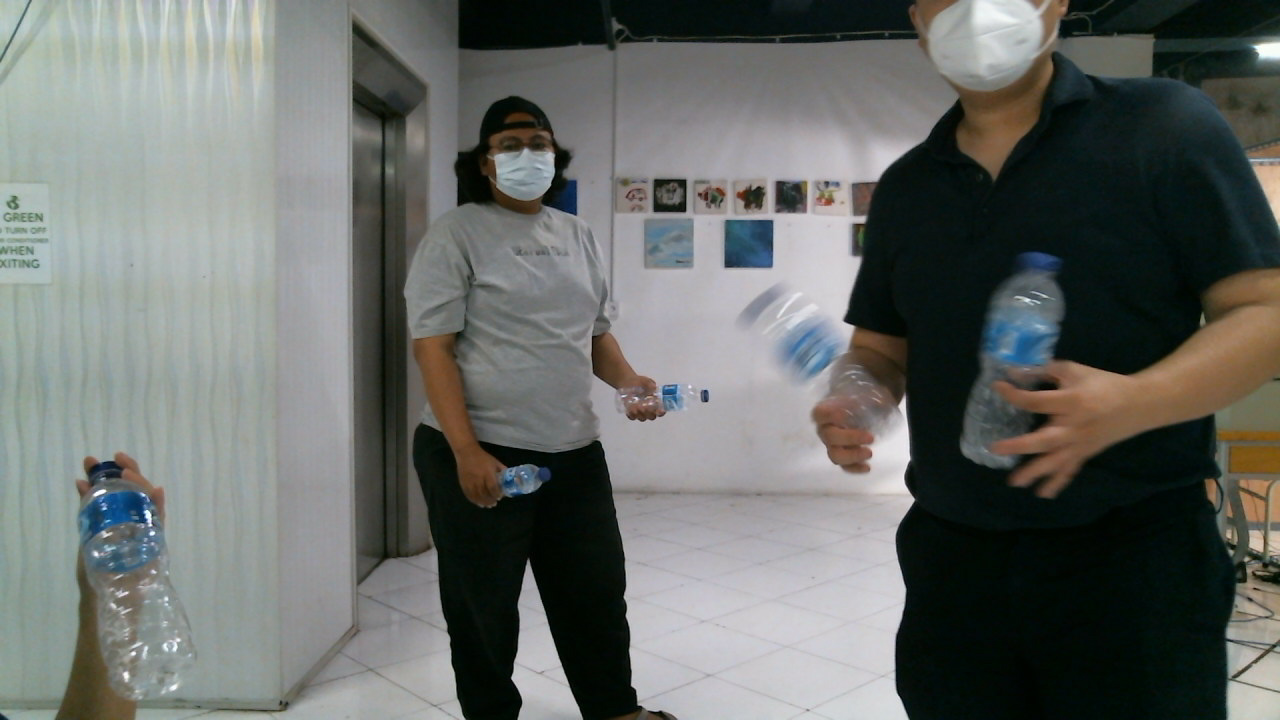Bottle: (80, 458, 200, 706)
